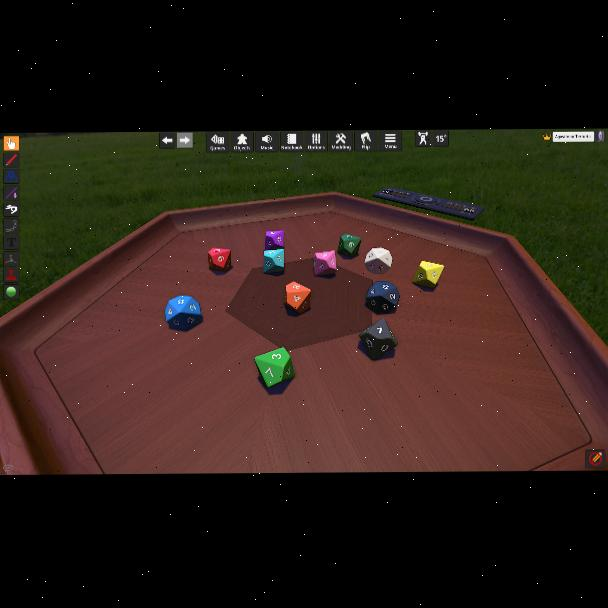d10: (255, 347, 295, 389), (359, 318, 397, 360), (165, 295, 202, 330), (365, 282, 399, 314), (284, 281, 310, 314), (412, 261, 442, 288), (364, 248, 390, 275), (314, 251, 336, 277), (208, 247, 230, 272), (264, 248, 284, 274), (338, 234, 360, 257), (265, 230, 285, 250)
